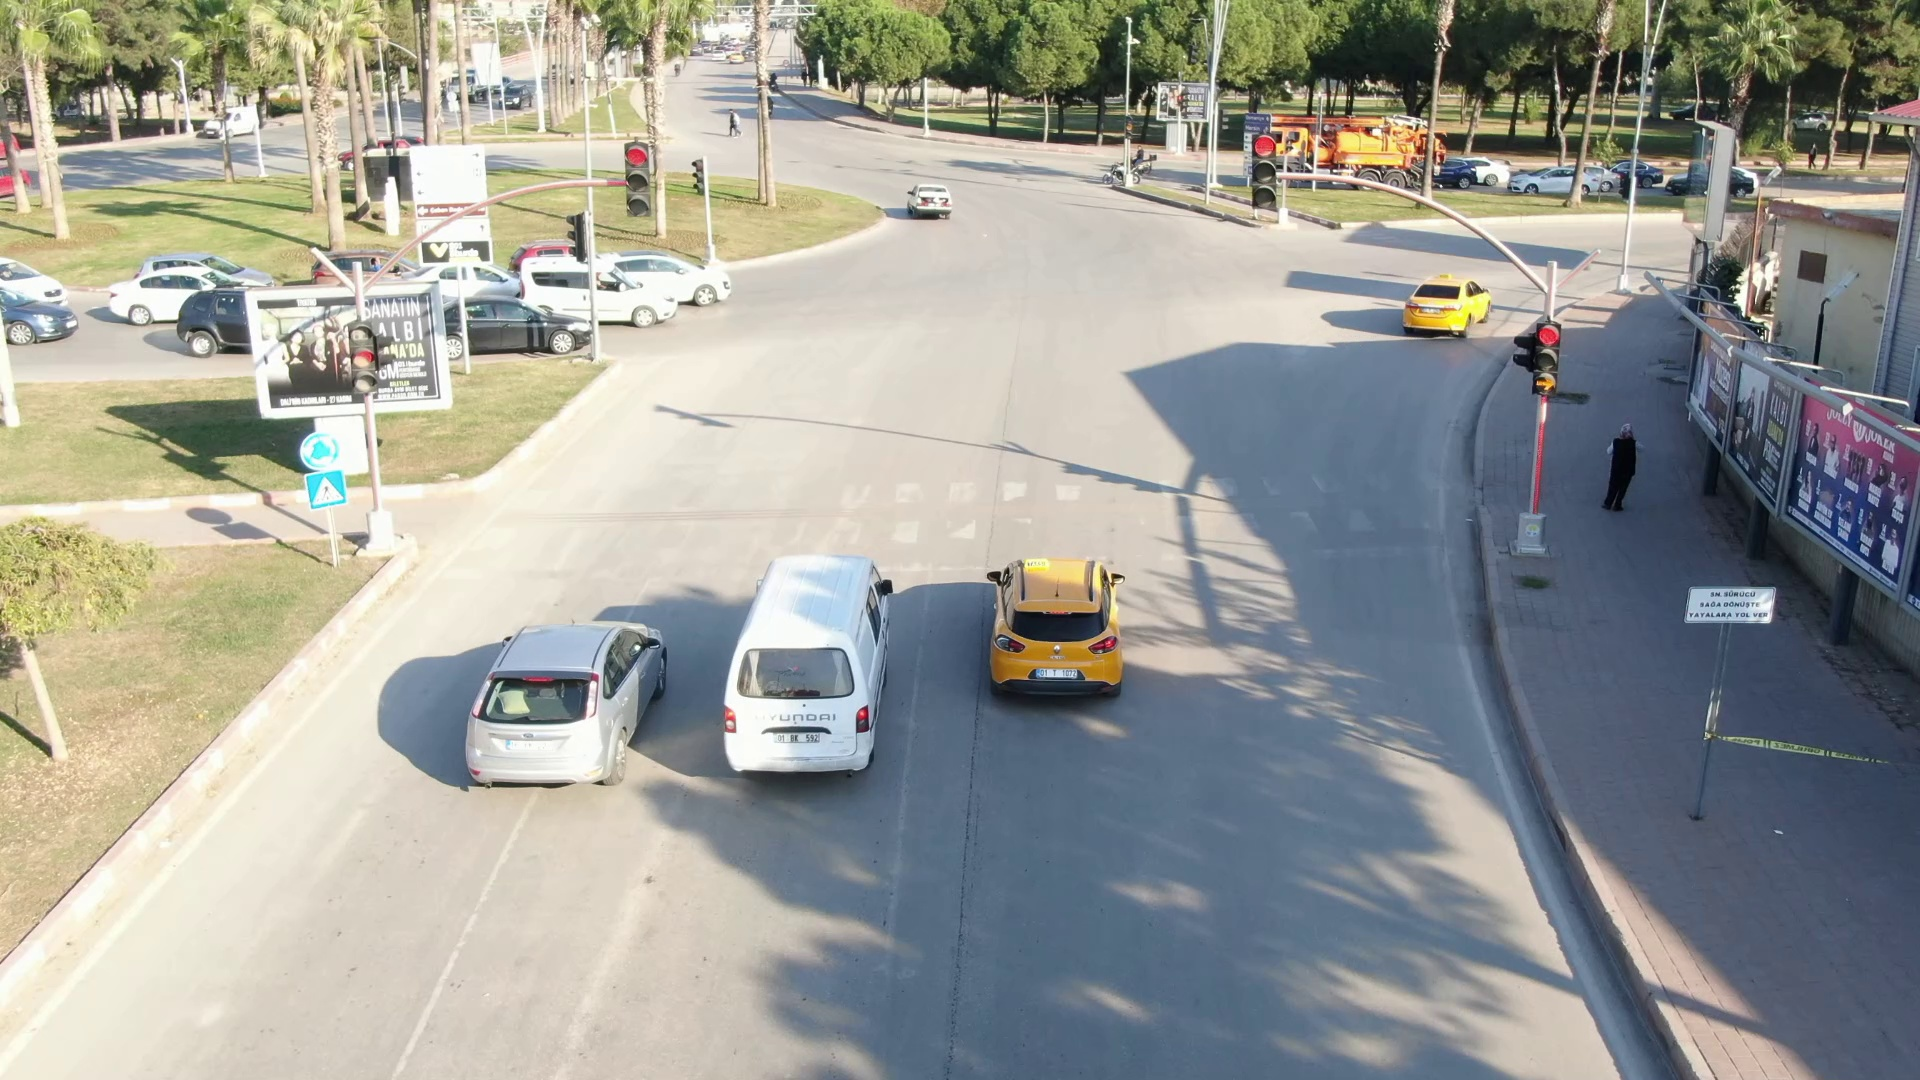car: (451, 612, 676, 802), (717, 555, 902, 784), (972, 541, 1139, 714), (515, 247, 672, 331), (445, 292, 600, 355), (610, 245, 735, 312), (1398, 271, 1504, 339), (906, 174, 951, 225)
person: (1600, 415, 1649, 515)
